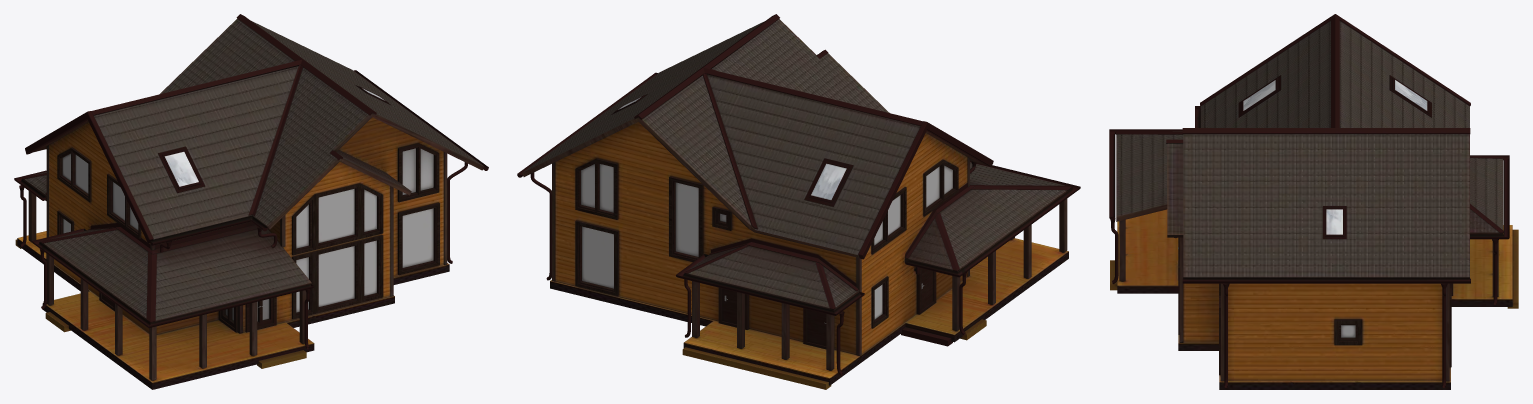
Rendered from home.glb.
3 renders of one model, left to right at view 1: azimuth 30°, elevation 25°; view 2: azimuth 150°, elevation 25°; view 3: azimuth 270°, elevation 25°, orthographic. The views are drawn at different scales.
Parts seen in each view (by area): view 1: 3. Roof 1_258, 4. Roof 2_255, 2. Main_254, 1. Foundation_257, Glass.002_77, Posts 1_259, Glass.003_78, Window.001_61, Rainshield.004_44, Window.002_62, Drain.001_32, Rainshield.006_46 (+15 smaller); view 2: 3. Roof 1_258, 2. Main_254, 1. Foundation_257, 4. Roof 2_255, 5. Roof 3_256, Glass.004_79, Rainshield.004_44, Posts 2_260, Rainshield.006_46, Posts 1_259, Glass.005_80, Door.003_74 (+19 smaller); view 3: 3. Roof 1_258, 2. Main_254, 1. Foundation_257, 4. Roof 2_255, Rainshield.004_44, 5. Roof 3_256, Drain_35, 6. Moldings_261, Rainshield.006_46, Glass.010_86, Drain.003_34, Drain.001_32 (+7 smaller).
Part boxes in pixels (x1,y1,x2,y2): 3. Roof 1_258: [32, 18, 484, 240]; 4. Roof 2_255: [41, 228, 311, 322]; 2. Main_254: [49, 117, 443, 334]; 1. Foundation_257: [17, 231, 449, 389]; Glass.002_77: [296, 189, 376, 312]; Posts 1_259: [46, 253, 306, 380]; Glass.003_78: [402, 148, 433, 267]; Window.001_61: [292, 235, 383, 319]; Rainshield.004_44: [91, 14, 376, 115]; Window.002_62: [292, 183, 383, 255]; Drain.001_32: [32, 228, 313, 327]; Rainshield.006_46: [25, 111, 153, 243]; 3. Roof 1_258: [522, 19, 983, 257]; 2. Main_254: [555, 122, 967, 354]; 1. Foundation_257: [550, 238, 1068, 385]; 4. Roof 2_255: [905, 162, 1071, 271]; 5. Roof 3_256: [685, 246, 859, 310]; Glass.004_79: [581, 164, 613, 288]; Rainshield.004_44: [634, 14, 922, 125]; Posts 2_260: [692, 281, 834, 370]; Rainshield.006_46: [858, 121, 992, 259]; Posts 1_259: [952, 198, 1067, 331]; Glass.005_80: [675, 182, 726, 256]; Door.003_74: [718, 287, 826, 349]; 3. Roof 1_258: [1167, 21, 1469, 278]; 2. Main_254: [1183, 283, 1442, 380]; 1. Foundation_257: [1117, 209, 1512, 389]; 4. Roof 2_255: [1116, 131, 1183, 221]; Rainshield.004_44: [1182, 16, 1470, 133]; 5. Roof 3_256: [1470, 158, 1503, 234]; Drain_35: [1182, 278, 1470, 283]; 6. Moldings_261: [1179, 237, 1449, 381]; Rainshield.006_46: [1200, 14, 1470, 106]; Glass.010_86: [1243, 80, 1427, 234]; Drain.003_34: [1470, 155, 1509, 239]; Drain.001_32: [1109, 129, 1182, 220].
Bounding box in the file's own units: 4.47 × 2.26 × 3.9.
4 materials, 4 textured.
